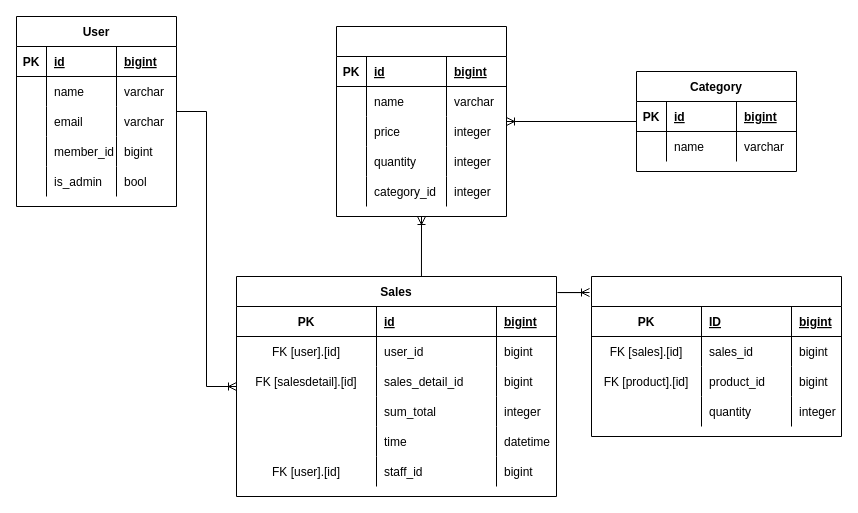
Some shapes in this 858 by 513 pixel diagram are drawn without their labels. Here are the shapes that lost their labels. From the top down, the box of each, then its label:
(336, 26, 506, 216): Product
(590, 276, 842, 436): SalesDetail
